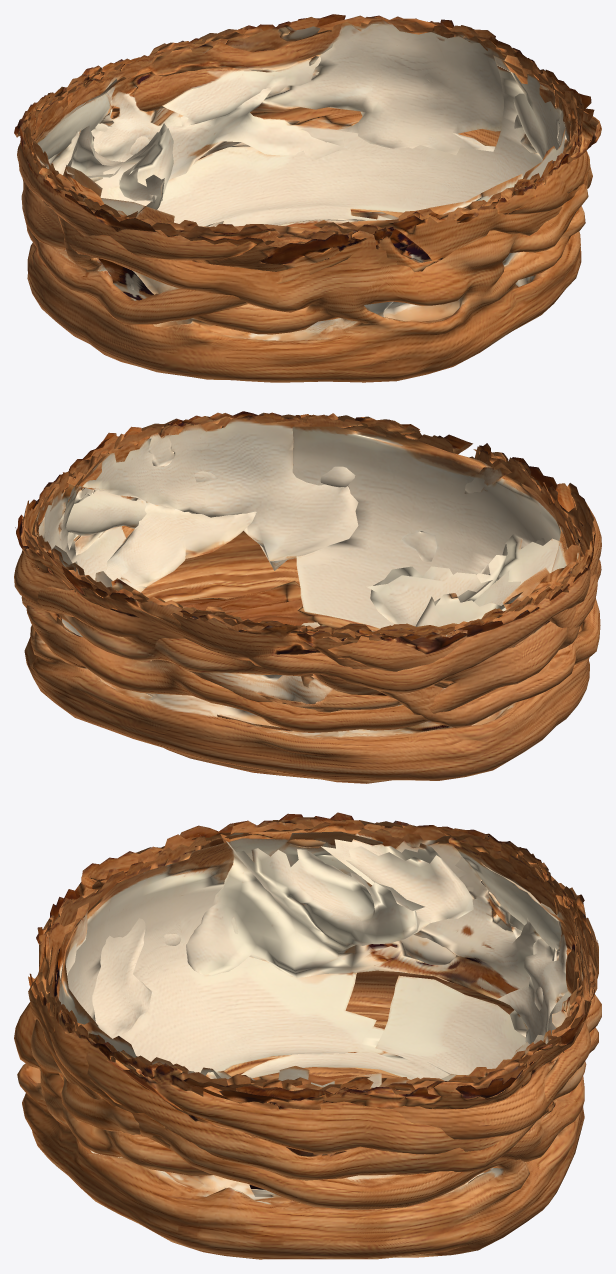
File: picnic_basket.glb
3 views of the same model, one above another, from view 1: azimuth 30°, elevation 25°; view 2: azimuth 150°, elevation 25°; view 3: azimuth 270°, elevation 25° (orthographic). The views are drawn at different scales.
Size of the model in its own units: 1.69 by 0.5519 by 1.47.
Materials: 1 (1 with a texture image).
